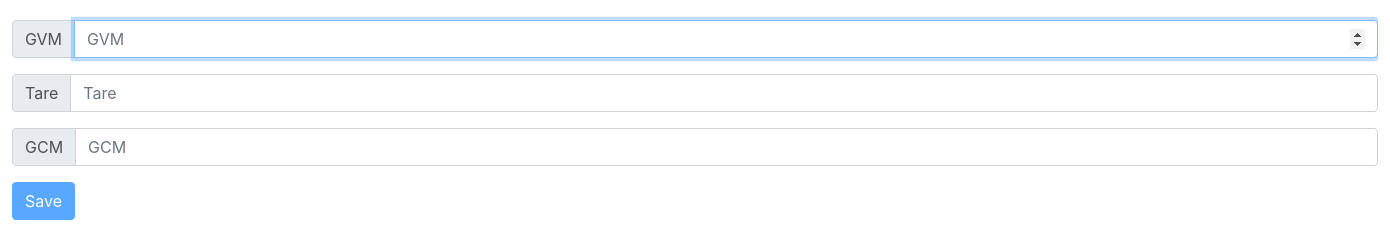
Scenario: disables the save button until all fields are valid
Check: the button "Save" is disabled, box [12,182,75,220]
Type "2000" into the number field with placeholder "GVM" at (726, 39), box [74,20,1378,58]
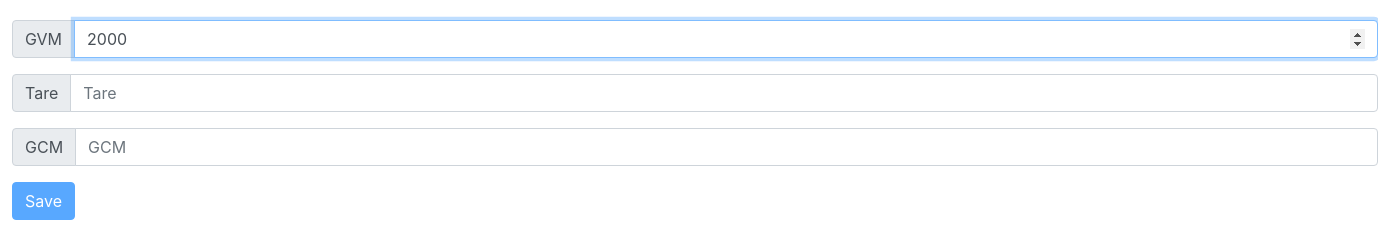
Check: the button "Save" is disabled, box [12,182,75,220]
Type "1000" into the number field with placeholder "Tare" at (724, 93), box [70,74,1378,112]
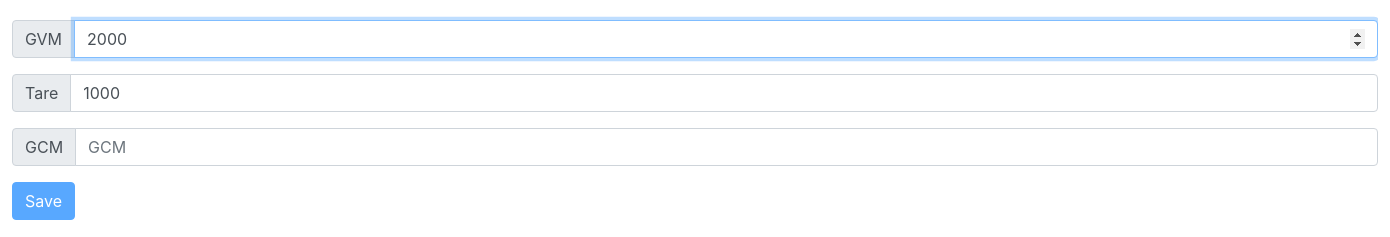
Check: the button "Save" is disabled, box [12,182,75,220]
Type "150" into the number field with placeholder "GCM" at (727, 147), box [75,128,1378,166]
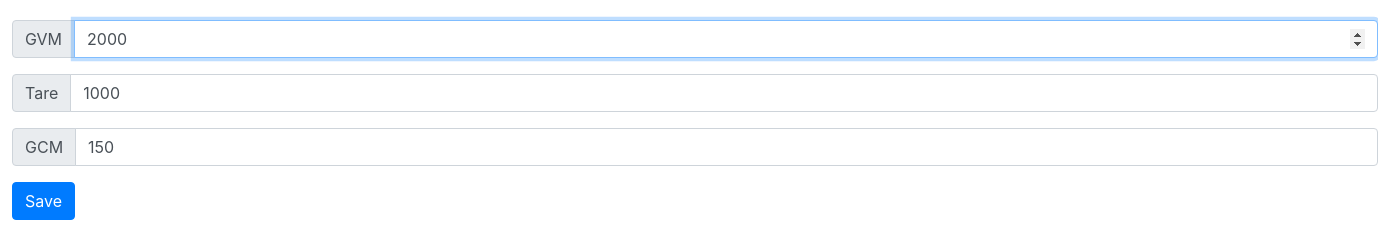
Check: the button "Save" is enabled, box [12,182,75,220]
